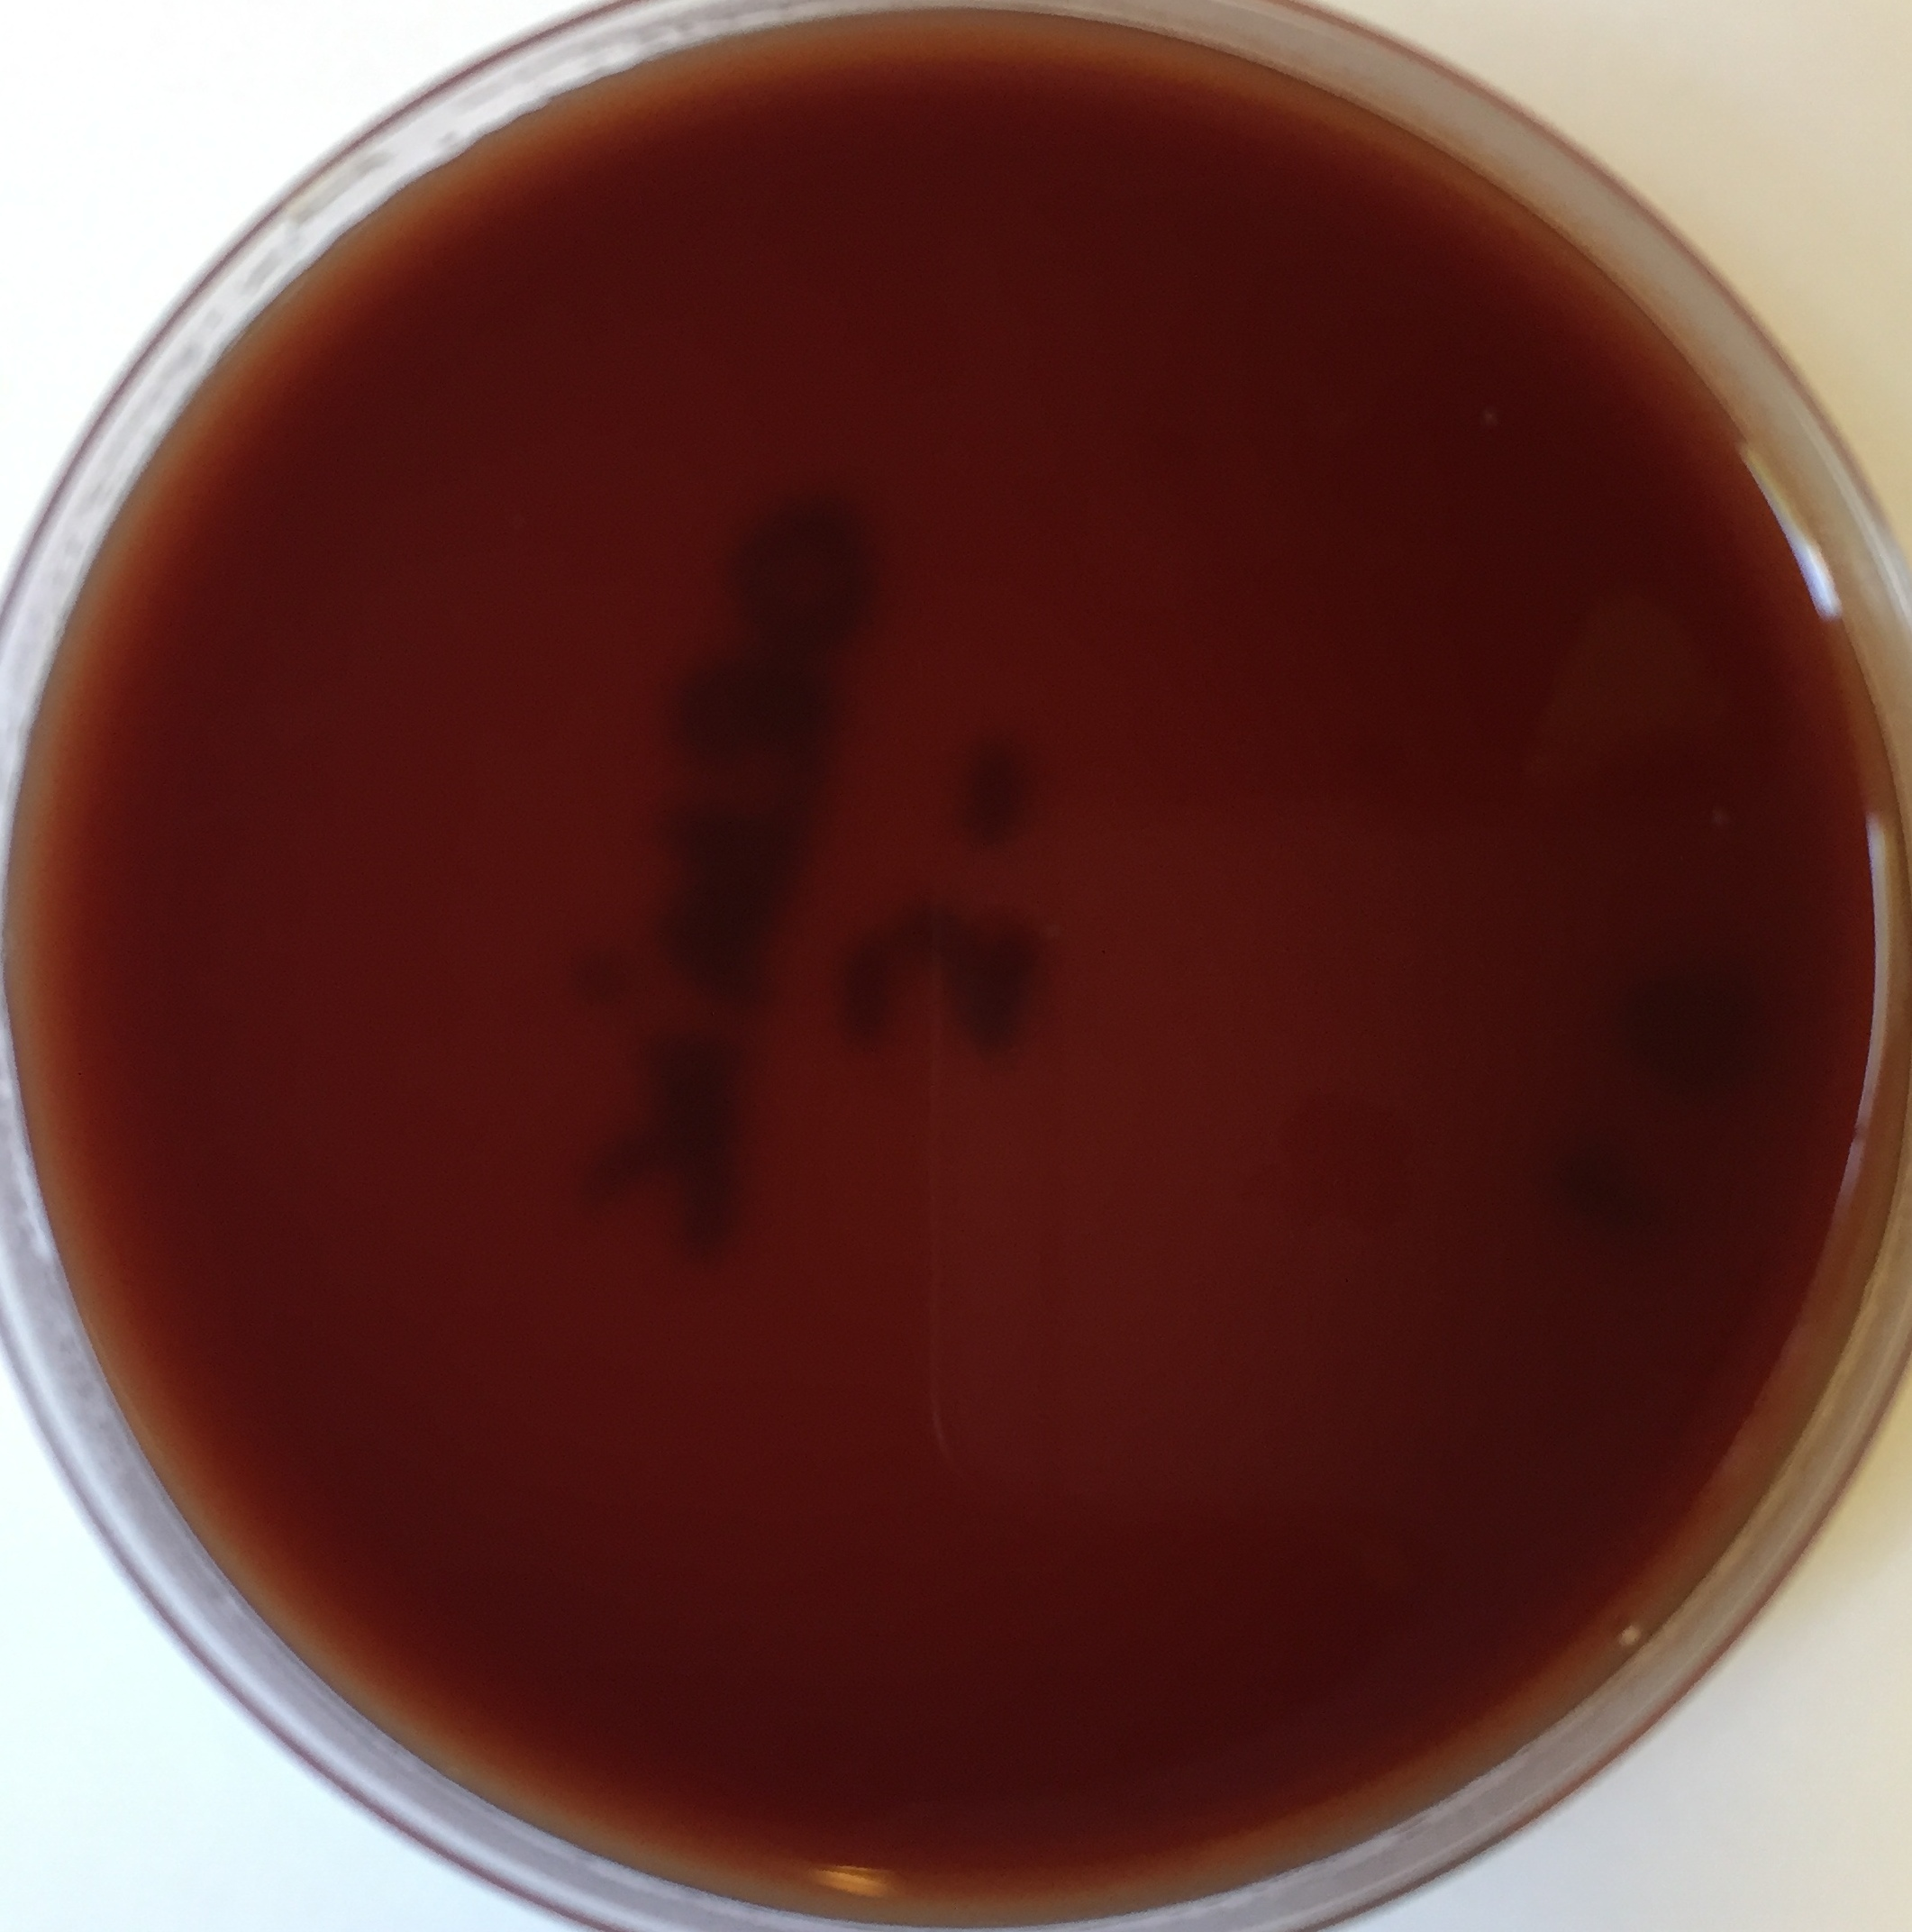sp10: (1613, 1620, 1648, 1657), (1473, 406, 1504, 431)
